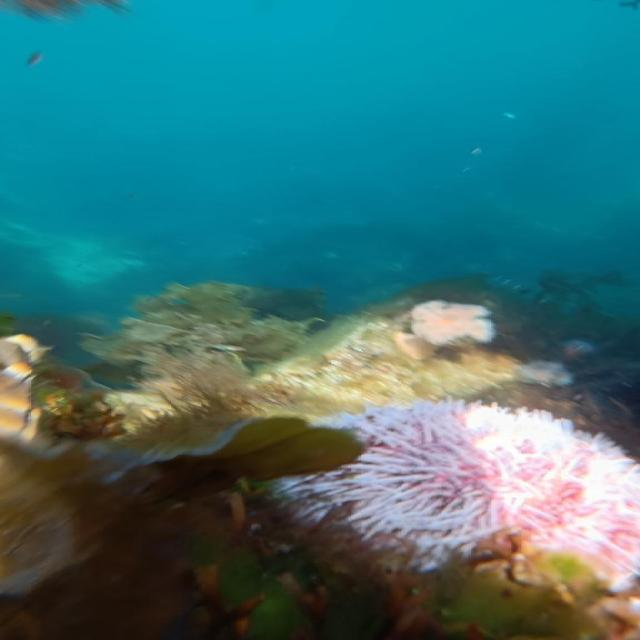Deniz Kestanesi: (269, 394, 640, 610)
